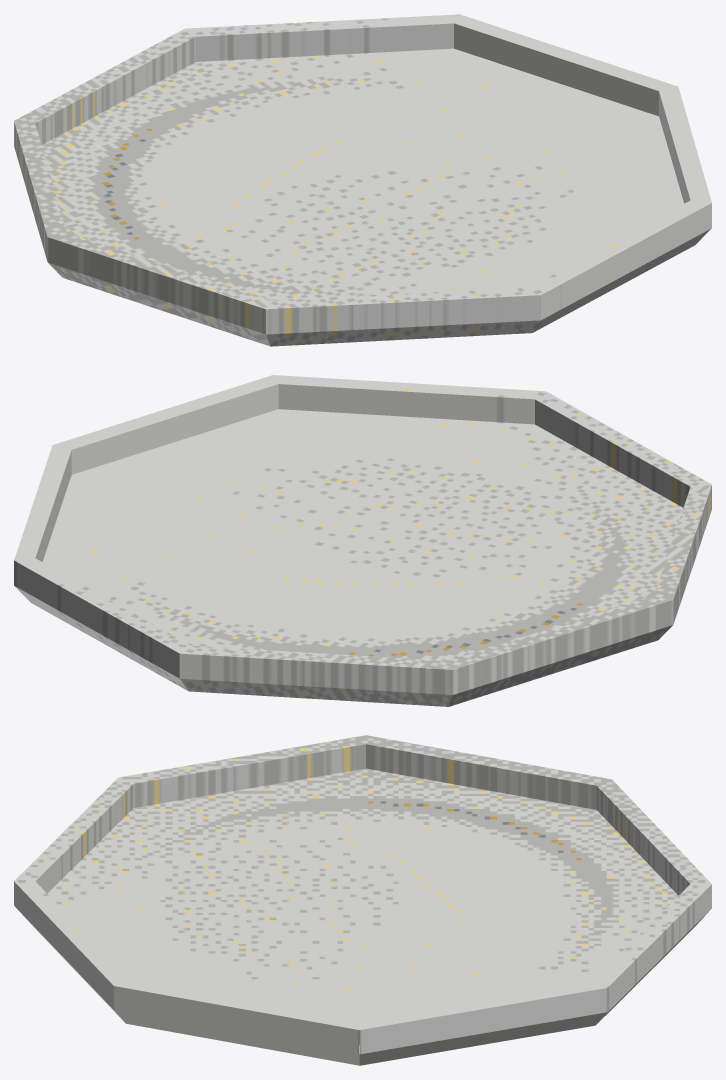
Rendered from SM_Plate.fbx.
The picture shows the model from 3 angles, top to bottom: view 1: azimuth 30°, elevation 25°; view 2: azimuth 150°, elevation 25°; view 3: azimuth 270°, elevation 25°; orthographic projection. The views are drawn at different scales.
Visible parts, largest first — view 1: Plate; view 2: Plate; view 3: Plate.
Part boxes in pixels (x1,y1,x2,y2): Plate: (14, 14, 711, 346); Plate: (14, 375, 711, 706); Plate: (14, 735, 711, 1065).
Bounding box in the file's own units: 0.6452 × 0.0436 × 0.6452.
